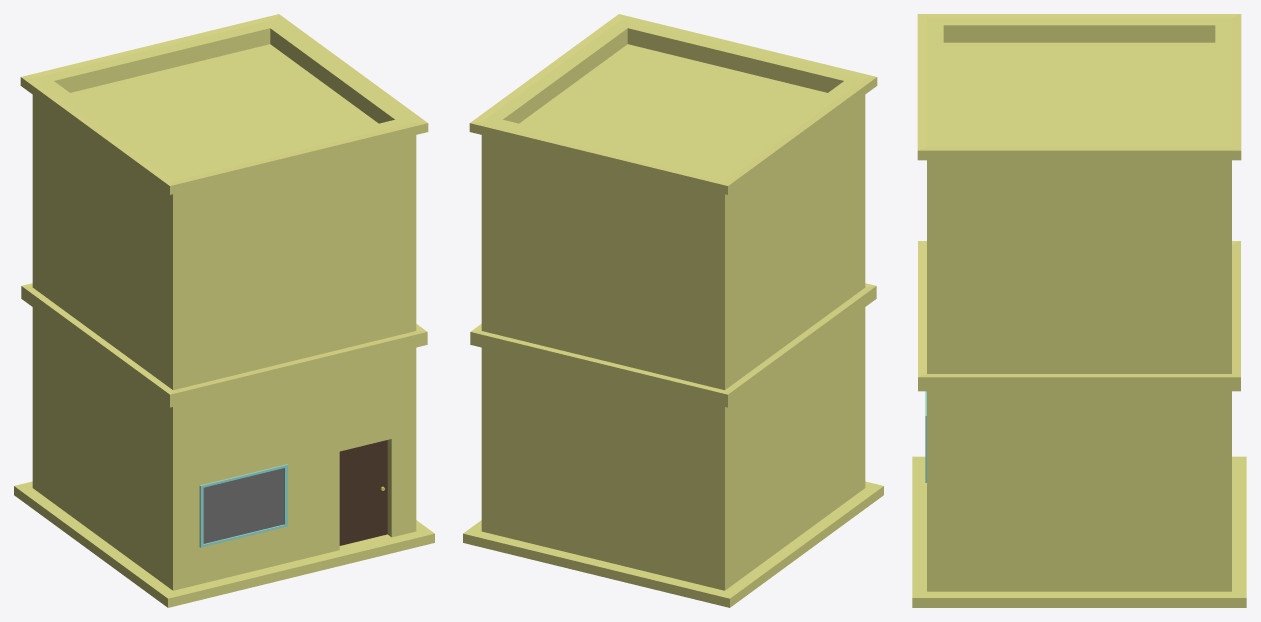
Rendered from Predio 1.fbx.
3 views of the same model, side by side, from view 1: azimuth 30°, elevation 25°; view 2: azimuth 150°, elevation 25°; view 3: azimuth 270°, elevation 25° (orthographic). The views are drawn at different scales.
Parts seen in each view (by area): view 1: Cube.011; view 2: Cube.011; view 3: Cube.011.
Part boxes in pixels (x1=…): Cube.011: x1=14, y1=14, x2=434, y2=607; Cube.011: x1=463, y1=14, x2=883, y2=607; Cube.011: x1=912, y1=14, x2=1246, y2=607.
Bounding box in the file's own units: 448 × 672 × 448.
